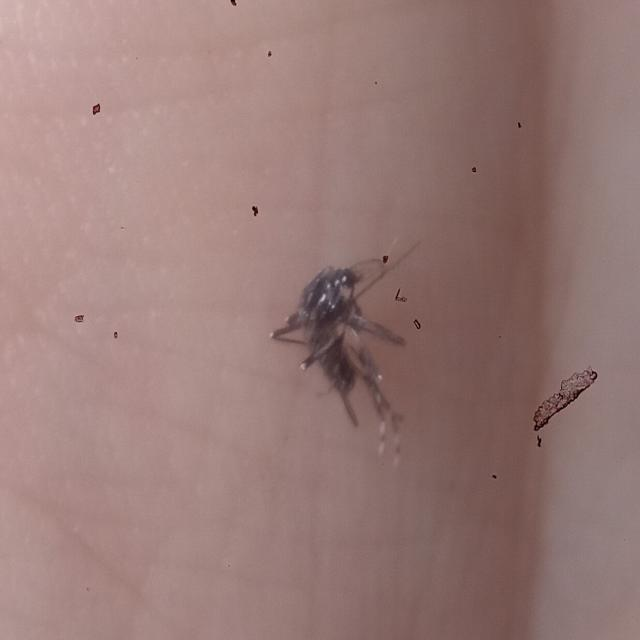albopictus: (261, 229, 431, 455)
